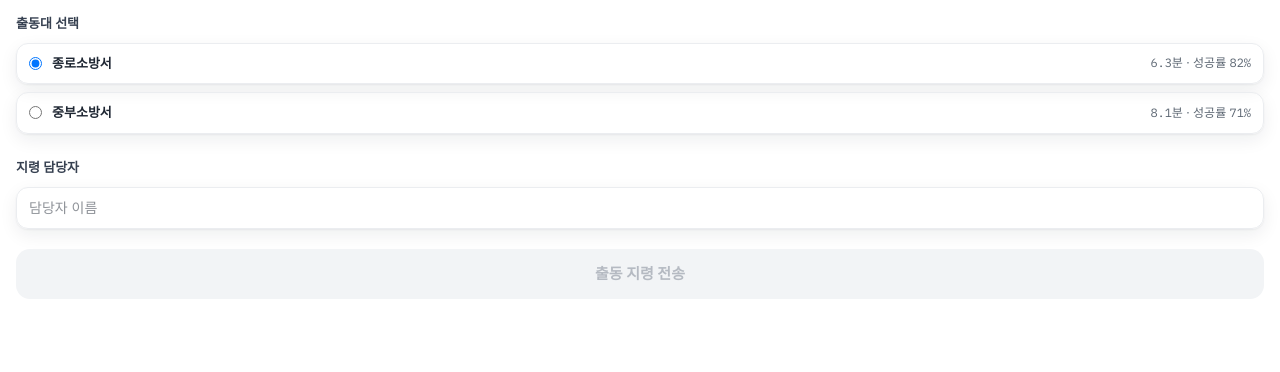
Test case: DispatchOrderForm › 취소하면 요청을 보내지 않고 폼으로 돌아온다
In the field labelled "지령 담당자": (640, 208) x1=16 y1=186 x2=1264 y2=228, type "김선우"
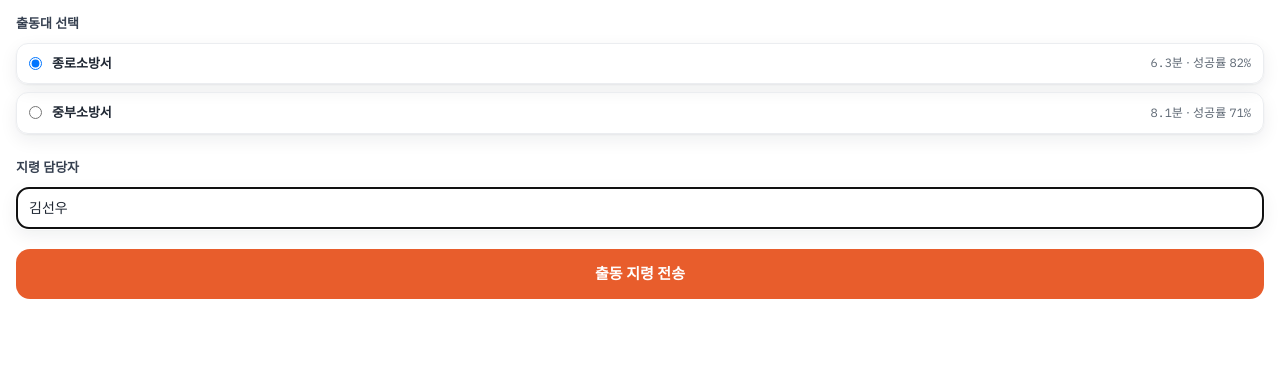
Click the button "출동 지령 전송": click(640, 274) x1=16 y1=248 x2=1264 y2=299
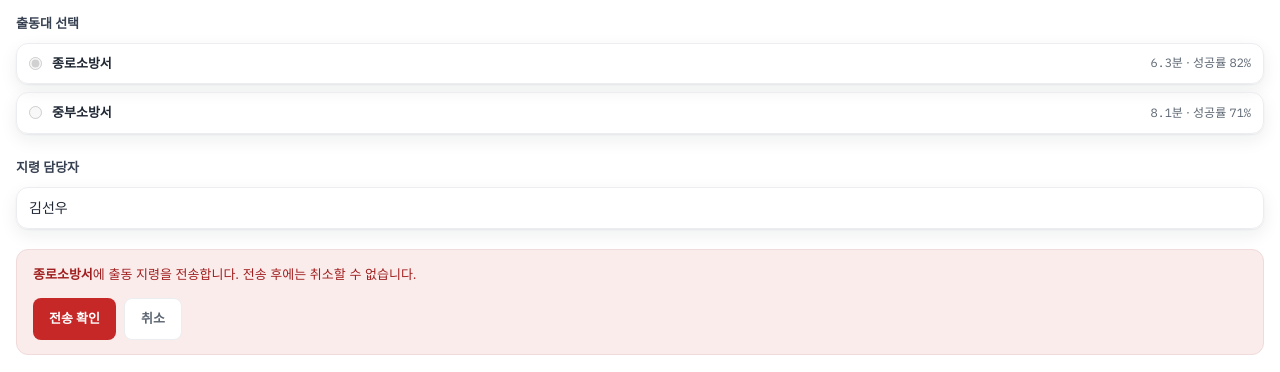
Click the button "취소": click(153, 319) x1=124 y1=298 x2=182 y2=340
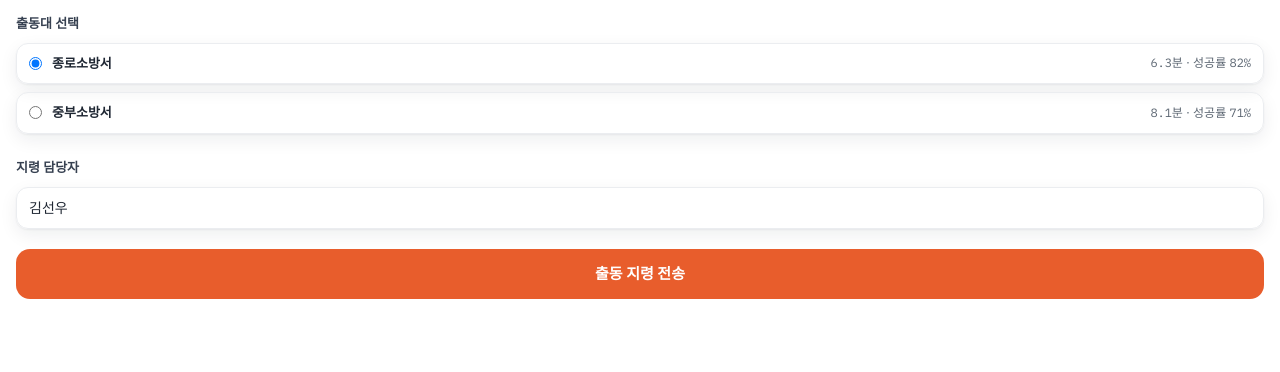
expect the button "출동 지령 전송" is shown: met, box x1=16 y1=248 x2=1264 y2=299
